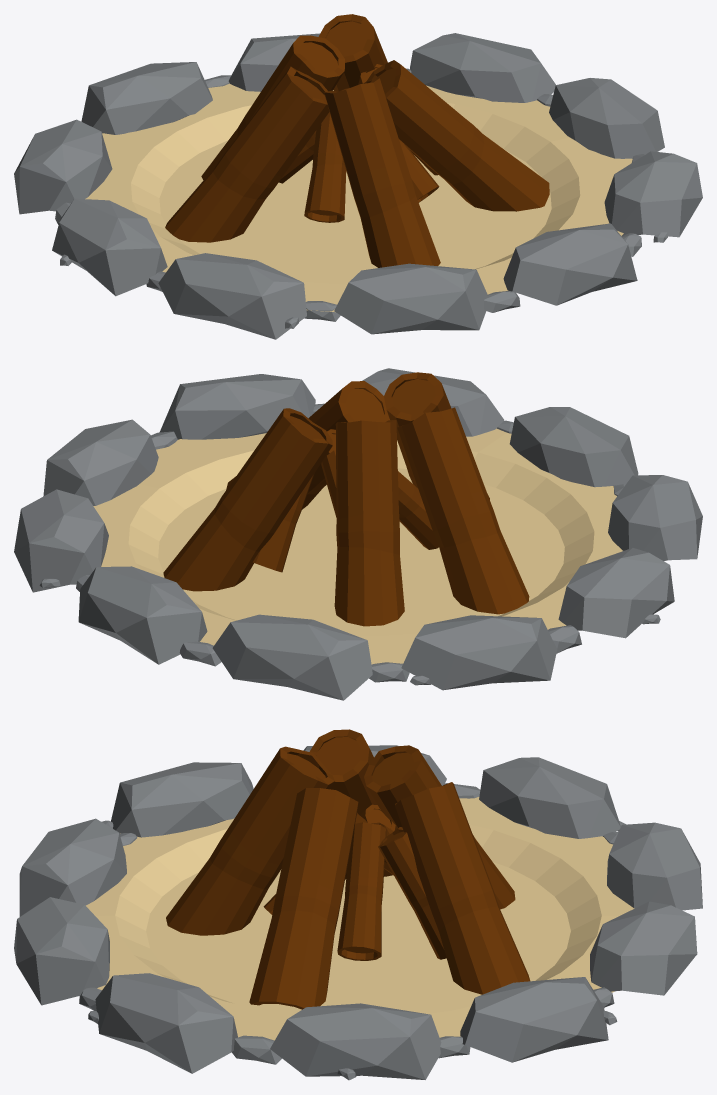
File: Camp_fire_textures.fbx
The picture shows the model from 3 angles, top to bottom: view 1: azimuth 30°, elevation 25°; view 2: azimuth 150°, elevation 25°; view 3: azimuth 270°, elevation 25°; orthographic projection. The views are drawn at different scales.
Parts seen in each view (by area): view 1: Cylinder; view 2: Cylinder; view 3: Cylinder.
Part boxes in pixels (<box>): Cylinder: <box>14,14,702,339</box>; Cylinder: <box>14,368,702,700</box>; Cylinder: <box>14,729,702,1080</box>.
Bounding box in the file's own units: 721 × 231 × 676.
